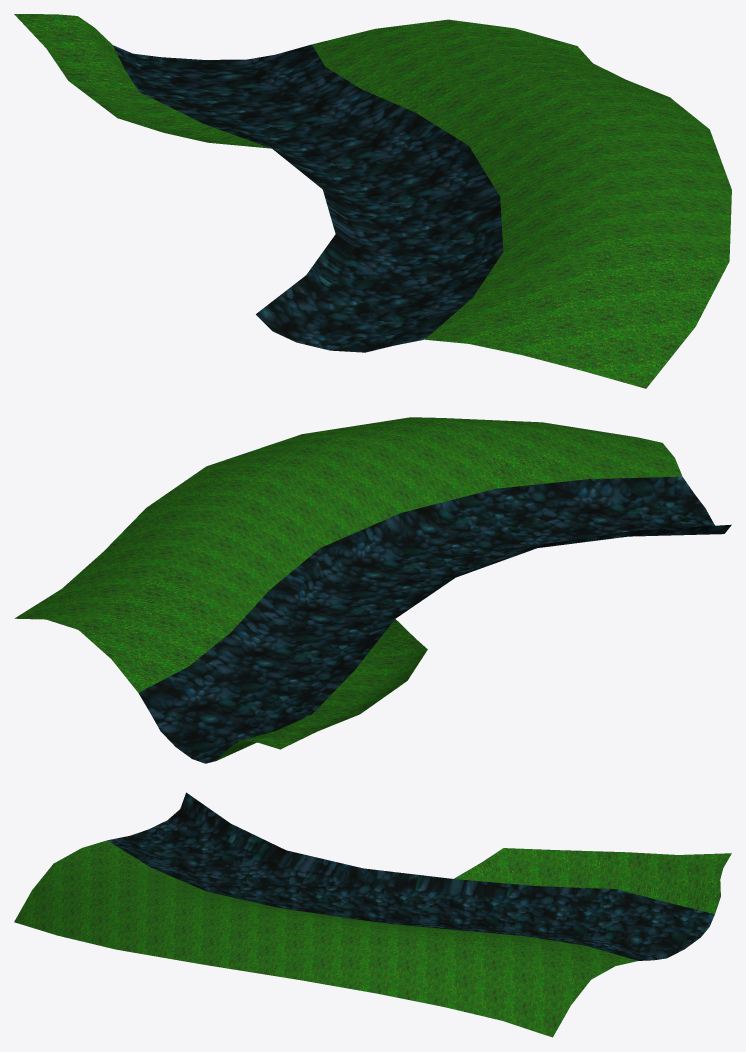
File: HTOWN01_PS01.fbx
3 views of the same model, one above another, from view 1: azimuth 30°, elevation 25°; view 2: azimuth 150°, elevation 25°; view 3: azimuth 270°, elevation 25° (orthographic). The views are drawn at different scales.
Visible parts, largest first — view 1: HTOWN01_PS01; view 2: HTOWN01_PS01; view 3: HTOWN01_PS01.
Boxes of the visible parts, x1=… form: HTOWN01_PS01: x1=14, y1=14, x2=731, y2=388; HTOWN01_PS01: x1=14, y1=417, x2=731, y2=763; HTOWN01_PS01: x1=14, y1=792, x2=731, y2=1037.
Size of the model in its own units: 347189 by 57587 by 524179.
Materials: 2 (2 with a texture image).
